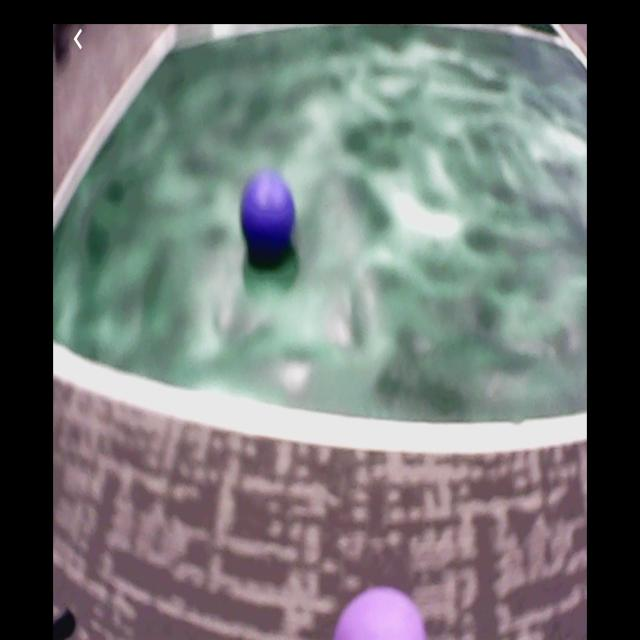ball: (334, 589, 428, 640), (242, 177, 296, 253)
